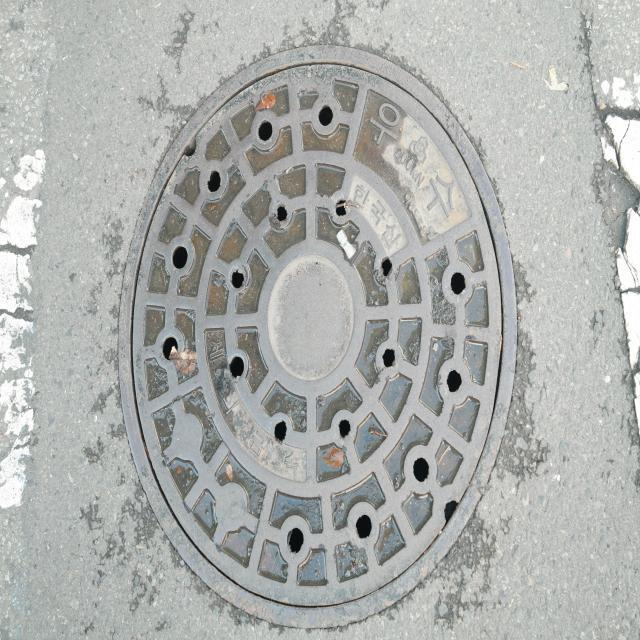manhole: (115, 45, 518, 633)
